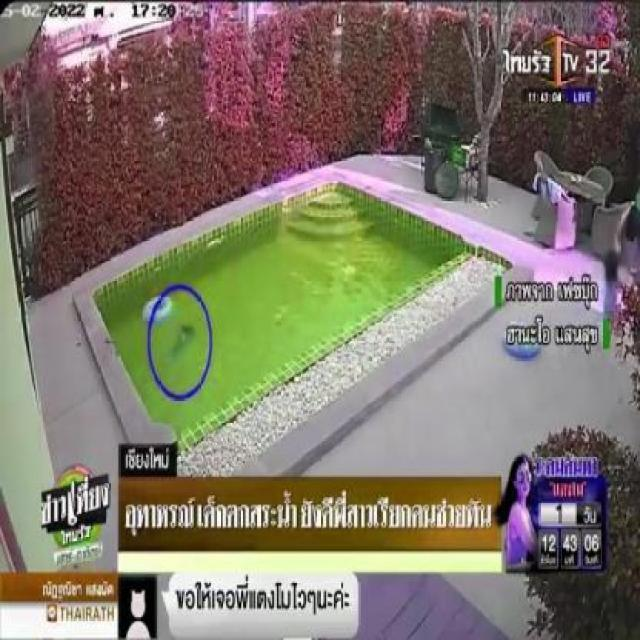drowning: (162, 320, 200, 380)
